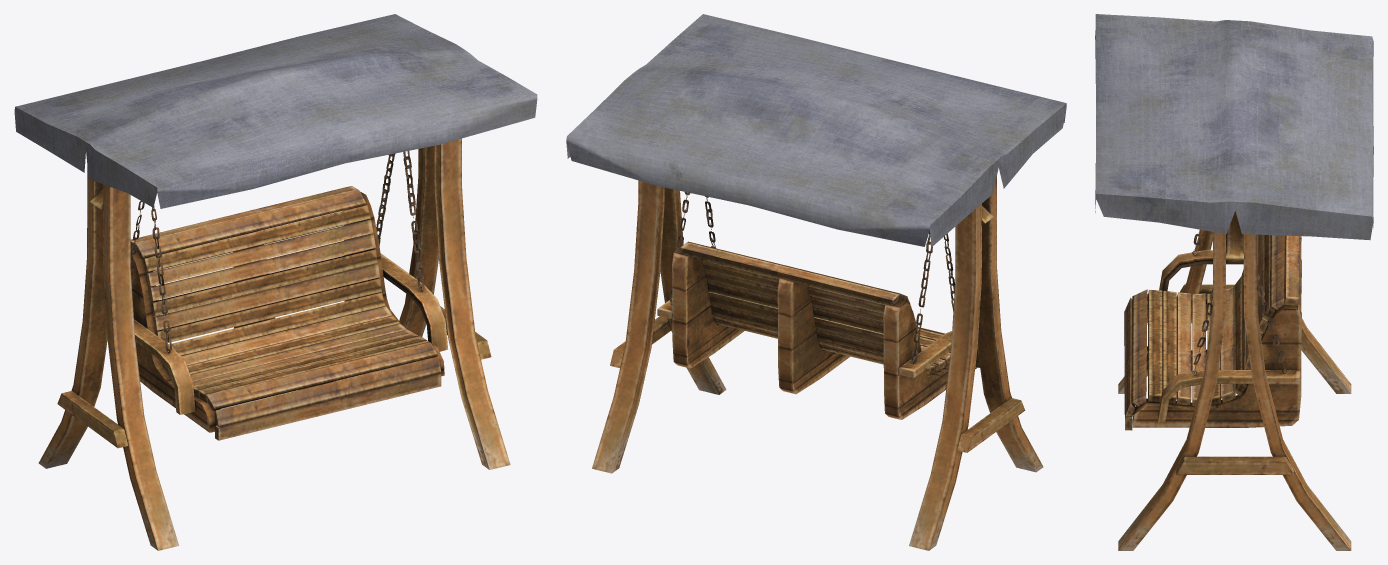
The model's file is mdl_hub_lawnswing.gltf.
3 views of the same model, side by side, from view 1: azimuth 30°, elevation 25°; view 2: azimuth 150°, elevation 25°; view 3: azimuth 270°, elevation 25° (orthographic). The views are drawn at different scales.
Parts seen in each view (by area): view 1: SM_Swing; view 2: SM_Swing; view 3: SM_Swing.
Part boxes in pixels (box(x1,y1,x2,y2)): SM_Swing: box(14, 14, 537, 550); SM_Swing: box(566, 14, 1066, 550); SM_Swing: box(1095, 14, 1373, 550).
Bounding box in the file's own units: 2.35 × 2.28 × 1.52.
Materials: 1 (1 with a texture image).
